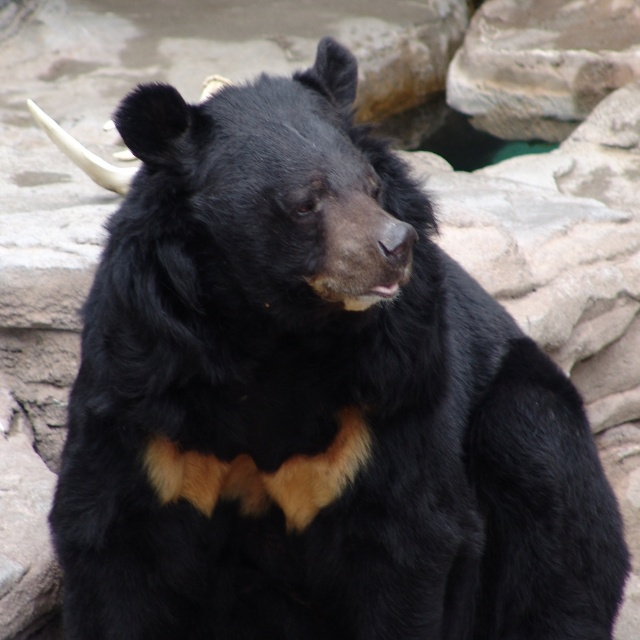Bear: (45, 37, 632, 640)
